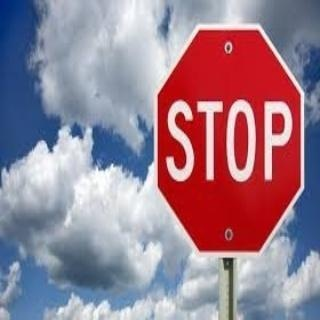sign_stop: (151, 23, 304, 249)
